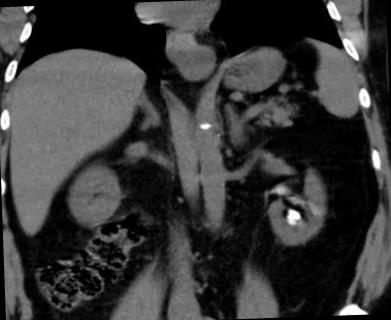Tas_Var: (289, 209, 300, 219), (285, 214, 293, 220)
